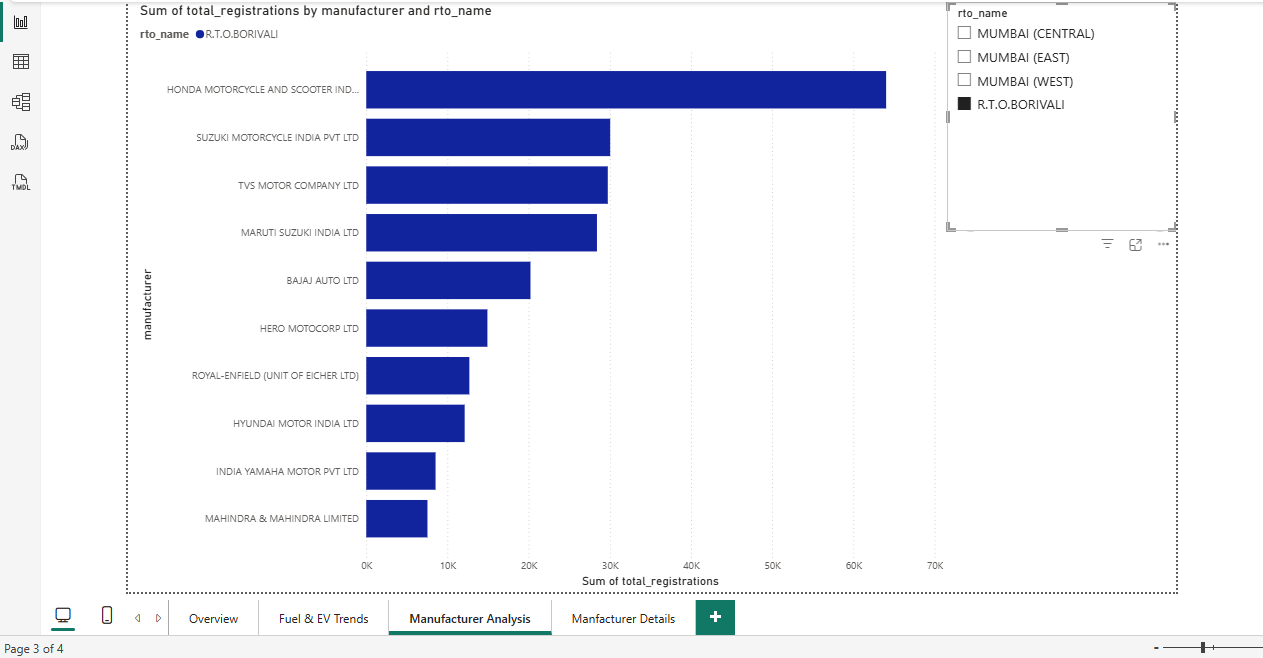

The page's visual inventory and layout, read from the dashboard file:
{"tool":"powerbi","page":{"name":"Manufacturer Analysis","canvas":[1280,720],"ordinal":2},"visuals":[{"type":"clusteredBarChart","fields":{"Y":["Sum(manufacturing_registrations.total_registrations)"],"Series":["manufacturing_registrations.rto_name"],"Category":["manufacturing_registrations.manufacturer"]},"box":[9.6,0,989.6,719.8],"z":0},{"type":"slicer","fields":{"Values":["manufacturing_registrations.rto_name"]},"box":[999.2,0,280.8,279.4],"z":1000},{"type":"slicer","fields":{"Values":["manufacturing_registrations.rank_in_zone"]},"box":[999.2,192.7,280.8,150],"z":2000}]}

Visuals, with their boxes on the page's 1280x720 design canvas (x1, y1, x2, y2). These are canvas units, not pixel positions in the 1263x658 screenshot, which may show the page scaled, cropped or inside an application window:
clusteredBarChart - Sum(manufacturing_registrations.total_registrations) x manufacturing_registrations.rto_name: [left=10, top=0, right=999, bottom=720]
slicer - manufacturing_registrations.rto_name: [left=999, top=0, right=1280, bottom=279]
slicer - manufacturing_registrations.rank_in_zone: [left=999, top=193, right=1280, bottom=343]
